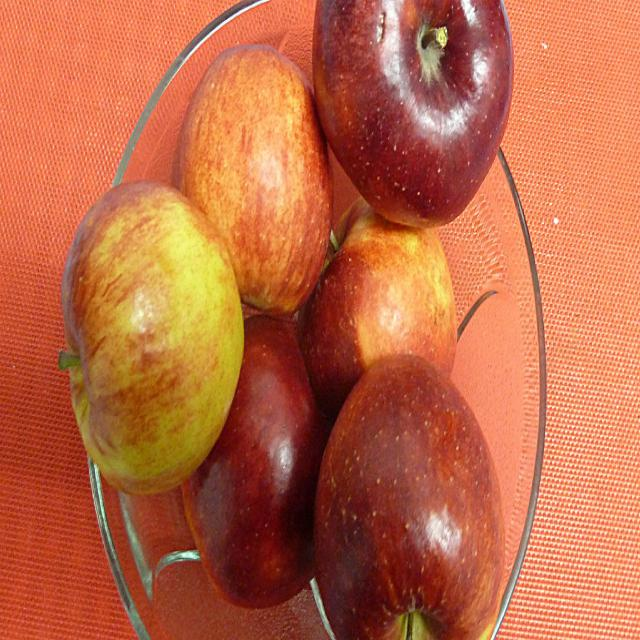Healty Apple: (56, 184, 247, 497), (312, 353, 509, 639), (308, 0, 514, 230), (176, 308, 330, 615), (173, 40, 334, 318), (296, 195, 459, 428)
